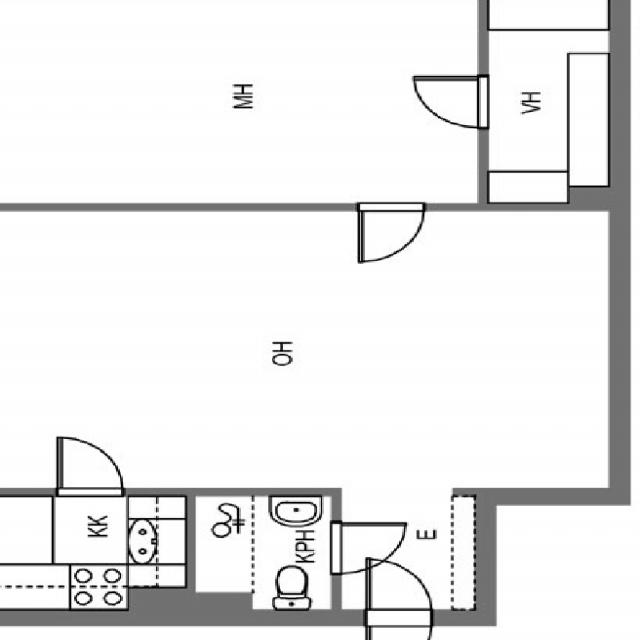door: (367, 560, 431, 627), (332, 524, 407, 576), (413, 77, 488, 128), (58, 440, 122, 498), (360, 203, 423, 261), (367, 611, 431, 640)
